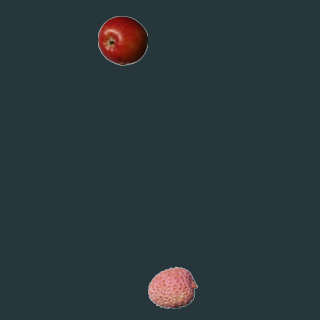Apple Braeburn: (97, 15, 147, 65)
Lychee: (147, 262, 197, 312)
